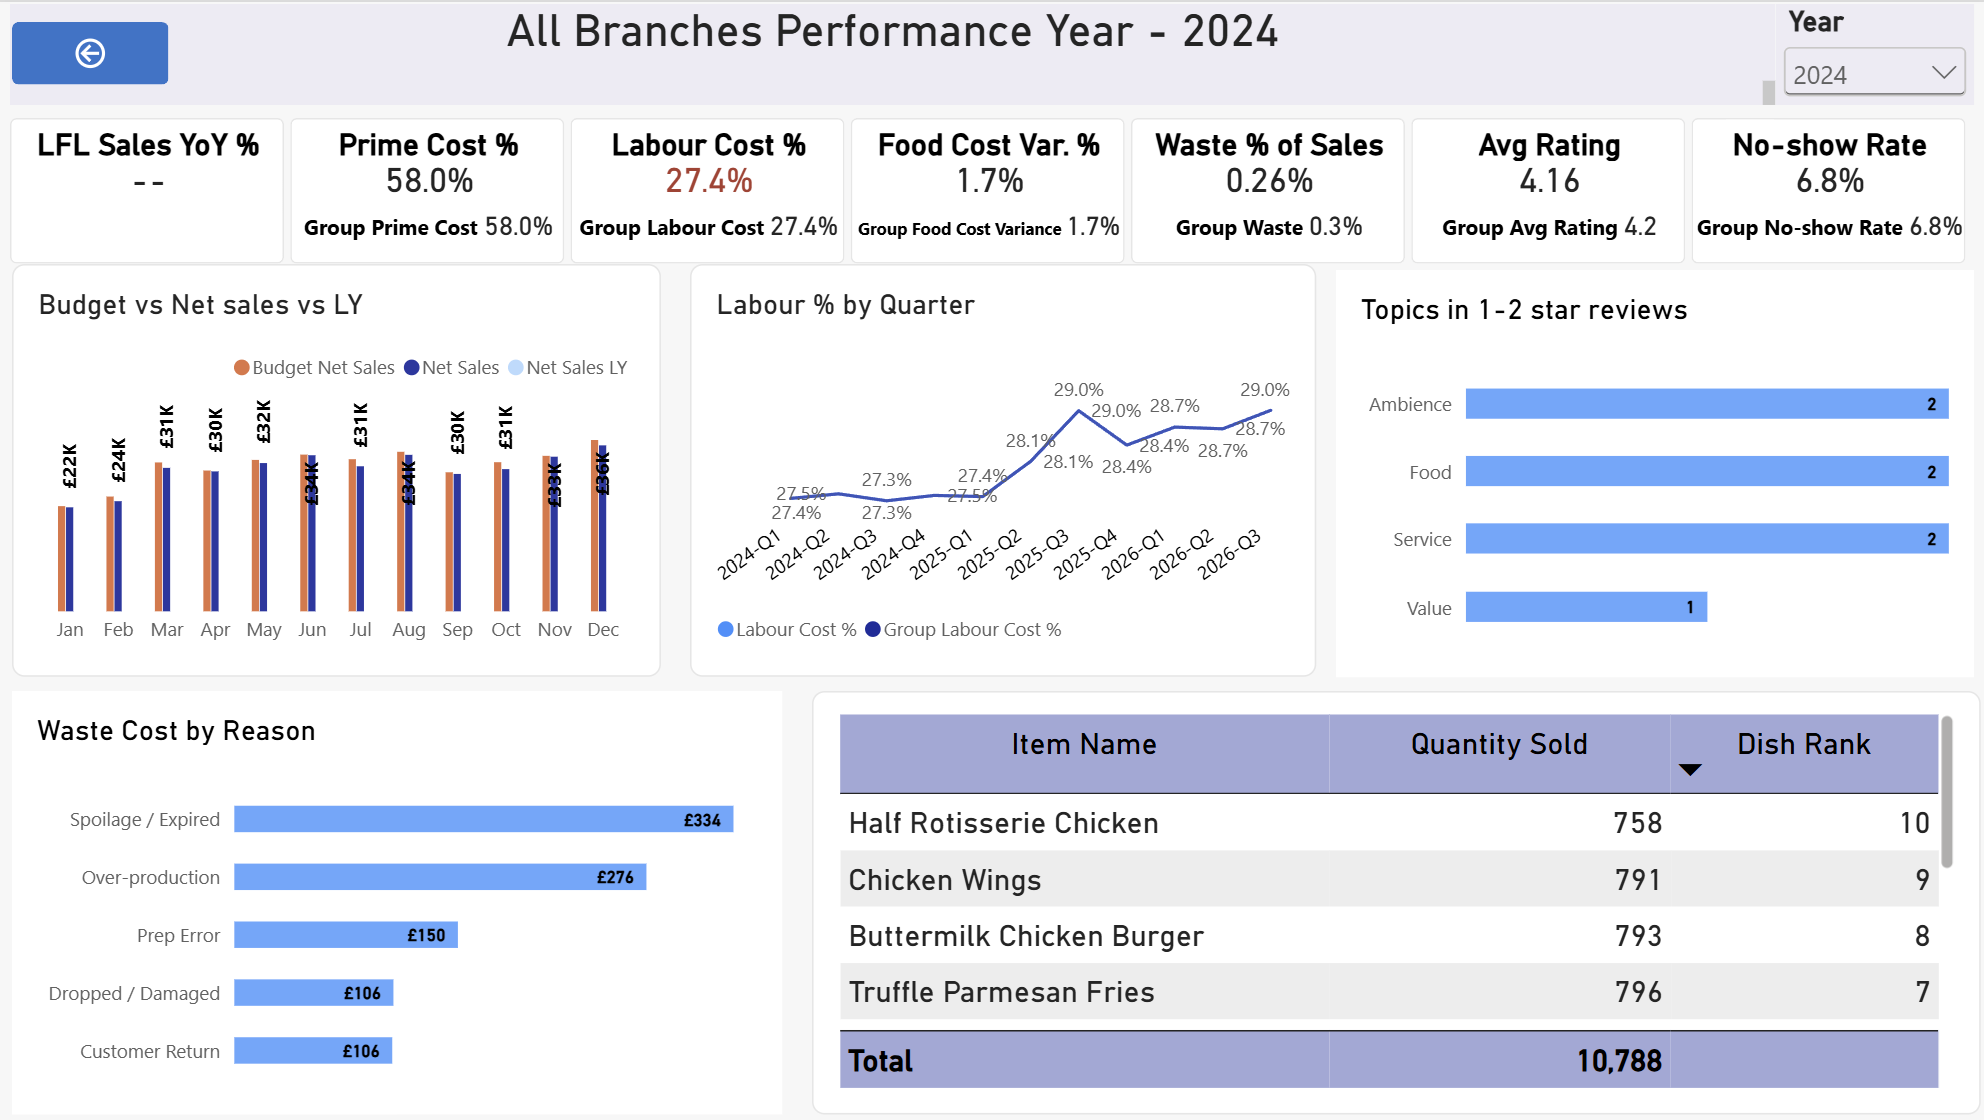

The dashboard page shown, as its layout file describes it:
{"tool":"powerbi","page":{"name":"Branch Details","canvas":[1280,720],"ordinal":5},"visuals":[{"type":"slicer","fields":{"Values":["dim_date.year"]},"box":[1140.7,1.4,126.4,64.6],"z":0},{"type":"clusteredColumnChart","title":"Budget vs Net sales vs LY ","fields":{"Category":["dim_date.month_short"],"Y":["_Measures.Budget Net Sales","_Measures.Net Sales","_Measures.Net Sales LY"]},"box":[14.4,167.7,414.6,263.2],"z":1000},{"type":"tableEx","title":"Net Sales vs Last Year","fields":{"Values":["dim_menu_item.menu_item_name","_Measures.Items Sold","_Measures.Dish Sales Rank"]},"box":[524.6,439.9,746.4,270.4],"z":2000},{"type":"lineChart","title":"Labour % by Quarter","fields":{"Category":["dim_date.year_quarter"],"Y":["_Measures.Labour Cost %","_Measures.Group Labour Cost %"]},"box":[447.1,167.7,400.2,263.2],"z":3000},{"type":"cardVisual","fields":{"Data":["_Measures.LFL Sales YoY %","_Measures.Prime Cost %","_Measures.Labour Cost %","_Measures.Food Cost Variance %","_Measures.Waste % of Sales","_Measures.Avg Rating","_Measures.No-show Rate"]},"box":[12.6,73.9,1254.8,93.7],"z":4000},{"type":"textbox","box":[12.9,1.4,1127.7,64.6],"z":5000},{"type":"actionButton","box":[14.4,12.9,100,40],"z":6000},{"type":"clusteredBarChart","title":"Topics in 1-2 star reviews","fields":{"Category":["fact_reviews.main_topic"],"Y":["_Measures.Review Count"]},"box":[859.9,171.3,407.4,259.6],"z":6001},{"type":"clusteredBarChart","title":"Waste Cost by Reason","fields":{"Category":["fact_wastage.waste_reason"],"Y":["_Measures.Waste Cost"]},"box":[14.4,439.9,492.2,270.4],"z":6002}]}

Visuals, with their boxes in screenshot pixels (x1, y1, x2, y2), scaled from the page's 1280x720 canvas onto the 1984x1120 screenshot:
slicer - dim_date.year: (1768, 2, 1964, 103)
"Budget vs Net sales vs LY " clusteredColumnChart: (22, 261, 665, 670)
"Net Sales vs Last Year" tableEx: (813, 684, 1970, 1105)
"Labour % by Quarter" lineChart: (693, 261, 1313, 670)
cardVisual - _Measures.LFL Sales YoY % x _Measures.Prime Cost %: (20, 115, 1964, 261)
textbox: (20, 2, 1768, 103)
actionButton: (22, 20, 177, 82)
"Topics in 1-2 star reviews" clusteredBarChart: (1333, 266, 1964, 670)
"Waste Cost by Reason" clusteredBarChart: (22, 684, 785, 1105)
